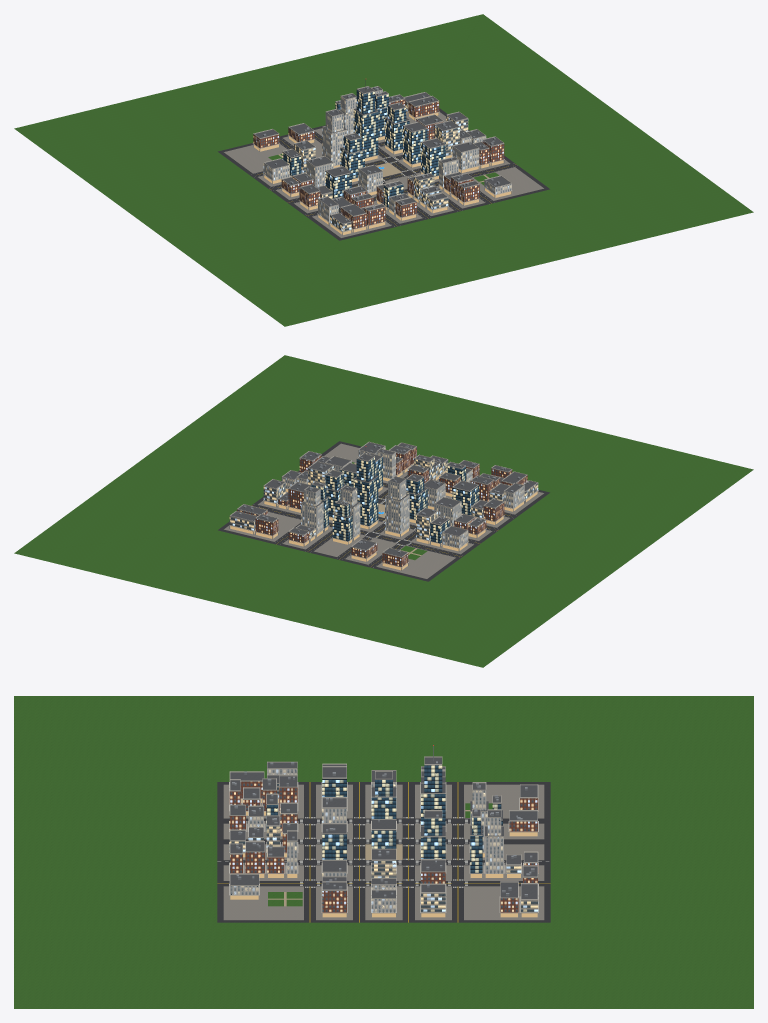
File: city.glb
The picture shows the model from 3 angles, top to bottom: view 1: azimuth 30°, elevation 25°; view 2: azimuth 150°, elevation 25°; view 3: azimuth 270°, elevation 25°; orthographic projection. The views are drawn at different scales.
Visible parts, largest first — view 1: city; view 2: city; view 3: city.
Boxes of the visible parts, x1,y1,x2,y2 form: city: [14, 14, 753, 326]; city: [14, 355, 753, 667]; city: [14, 696, 753, 1008].
Size of the model in its own units: 600 by 96.03 by 600.
18 materials, 9 textured.
